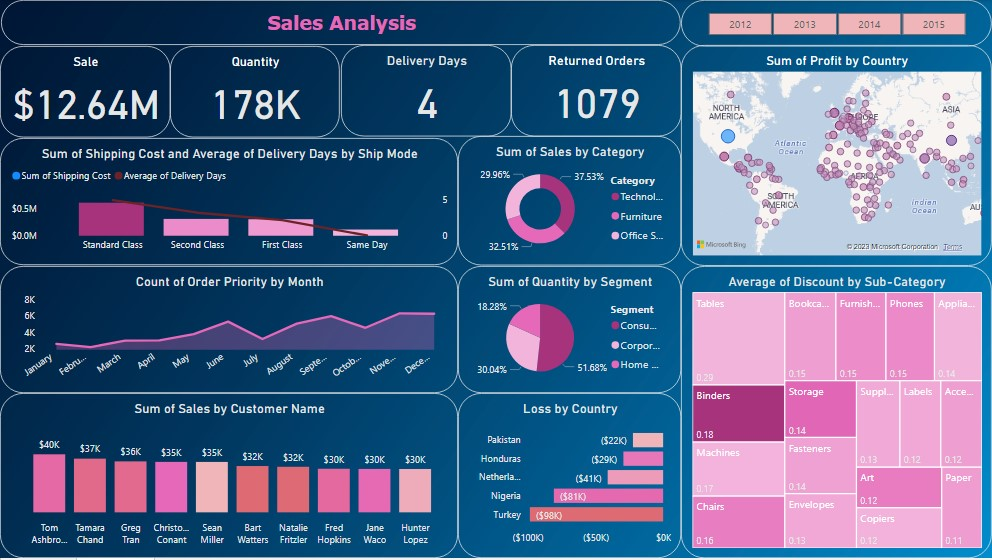

The dashboard page shown, as its layout file describes it:
{"tool":"powerbi","page":{"name":"Page 3","canvas":[1280,720],"ordinal":2},"visuals":[{"type":"card","title":"Sale","fields":{"Values":["Sum(Orders.Sales)"]},"box":[0,59.5,219.7,117.6],"z":0},{"type":"card","title":"Quantity","fields":{"Values":["Sum(Orders.Quantity)"]},"box":[219.7,59.5,219,117.6],"z":1000},{"type":"card","title":"Delivery Days","fields":{"Values":["Avg(Orders.Delivery Days)"]},"box":[439.4,58.1,219.7,117.6],"z":2000},{"type":"card","title":"Returned Orders","fields":{"Values":["Sum(Returns.Return Order)"]},"box":[659.1,58.1,219.7,117.6],"z":3000},{"type":"map","fields":{"Size":["Sum(Orders.Profit)"],"Category":["Orders.Country"]},"box":[878.7,58.1,401.1,284.9],"z":4000},{"type":"areaChart","fields":{"Y":["CountNonNull(Orders.Order Priority)"],"Category":["Orders.Order Date.Variation.Date Hierarchy.Month"]},"box":[0,343,591,164],"z":5000},{"type":"donutChart","fields":{"Category":["Orders.Category"],"Y":["Sum(Orders.Sales)"]},"box":[591,175.7,287.7,167.2],"z":6000},{"type":"pieChart","fields":{"Category":["Orders.Segment"],"Y":["Sum(Orders.Quantity)"]},"box":[591,343,287.7,164.4],"z":7000},{"type":"lineClusteredColumnComboChart","fields":{"Category":["Orders.Ship Mode"],"Y":["Sum(Orders.Shipping Cost)"],"Y2":["Avg(Orders.Delivery Days)"]},"box":[0,178.6,591,164.4],"z":8000},{"type":"treemap","fields":{"Values":["Avg(Orders.Discount)"],"Group":["Orders.Sub-Category"]},"box":[878.7,343,401.1,377],"z":9000},{"type":"columnChart","fields":{"Category":["Orders.Customer Name"],"Y":["Sum(Orders.Sales)"]},"box":[0,507,591,213],"z":10000},{"type":"barChart","title":"Loss by Country","fields":{"Category":["Orders.Country"],"Y":["Sum(Orders.Profit)"]},"box":[591,507,288,213],"z":11000},{"type":"slicer","fields":{"Values":["Orders.Year"]},"box":[878.7,0,401.1,59.5],"z":12000},{"type":"textbox","box":[1.4,0,877.3,58.1],"z":13000}]}

Visuals, with their boxes in screenshot pixels (x1, y1, x2, y2), scaled from the page's 1280x720 canvas onto the 992x560 screenshot:
"Sale" card: x1=0 y1=46 x2=170 y2=138
"Quantity" card: x1=170 y1=46 x2=340 y2=138
"Delivery Days" card: x1=341 y1=45 x2=511 y2=137
"Returned Orders" card: x1=511 y1=45 x2=681 y2=137
map - Sum(Orders.Profit) x Orders.Country: x1=681 y1=45 x2=991 y2=267
areaChart - CountNonNull(Orders.Order Priority) x Orders.Order Date.Variation.Date Hierarchy.Month: x1=0 y1=267 x2=458 y2=394
donutChart - Orders.Category x Sum(Orders.Sales): x1=458 y1=137 x2=681 y2=267
pieChart - Orders.Segment x Sum(Orders.Quantity): x1=458 y1=267 x2=681 y2=395
lineClusteredColumnComboChart - Orders.Ship Mode x Sum(Orders.Shipping Cost): x1=0 y1=139 x2=458 y2=267
treemap - Avg(Orders.Discount) x Orders.Sub-Category: x1=681 y1=267 x2=991 y2=559
columnChart - Orders.Customer Name x Sum(Orders.Sales): x1=0 y1=394 x2=458 y2=559
"Loss by Country" barChart: x1=458 y1=394 x2=681 y2=559
slicer - Orders.Year: x1=681 y1=0 x2=991 y2=46
textbox: x1=1 y1=0 x2=681 y2=45
